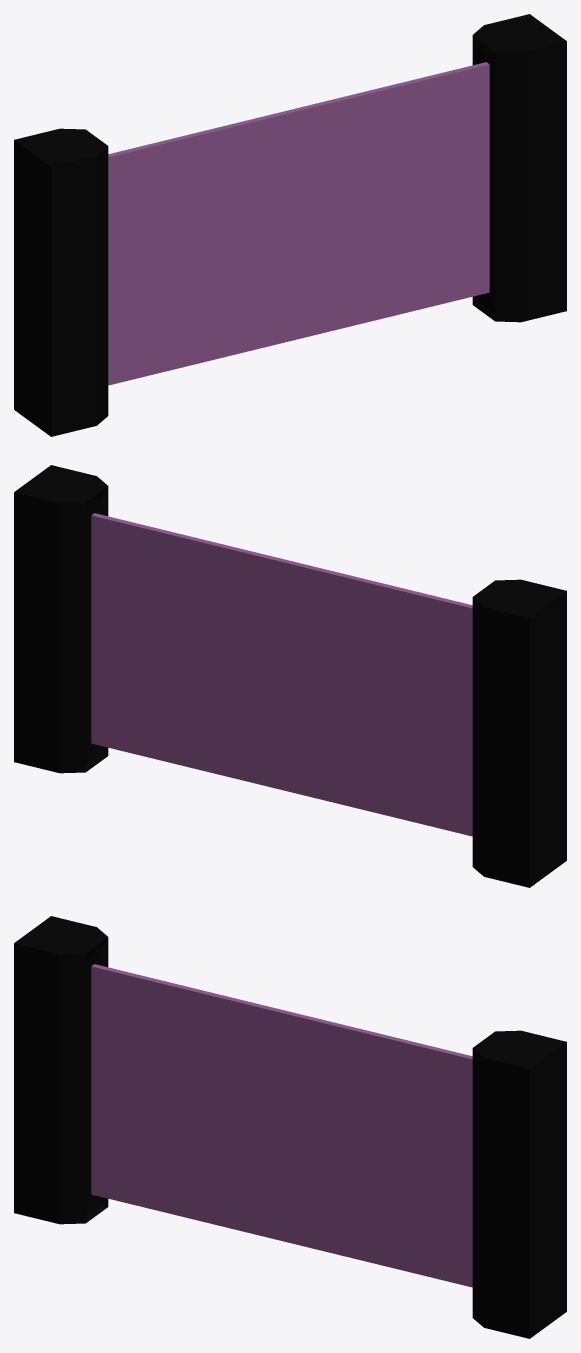
File: ForceField.fbx
3 renders of one model, top to bottom at view 1: azimuth 30°, elevation 25°; view 2: azimuth 150°, elevation 25°; view 3: azimuth 330°, elevation 25°, orthographic.
Visible parts, largest first — view 1: pCube4; view 2: pCube4; view 3: pCube4.
Part boxes in pixels (x1=…): pCube4: x1=14, y1=14, x2=566, y2=436; pCube4: x1=14, y1=465, x2=566, y2=887; pCube4: x1=14, y1=916, x2=566, y2=1338.
Size of the model in its own units: 8 by 4 by 1.
